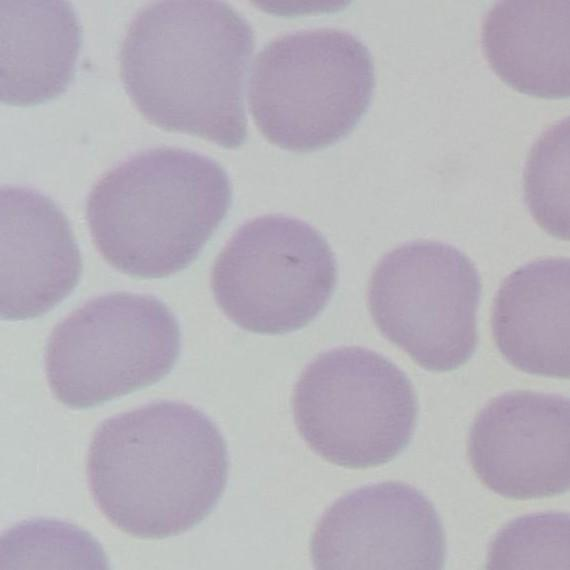Uninfected: (122, 0, 254, 147), (90, 398, 229, 535), (88, 150, 228, 281), (242, 29, 375, 149), (46, 294, 185, 407), (215, 214, 338, 334), (372, 240, 482, 372), (296, 348, 417, 468), (312, 485, 450, 570), (0, 185, 82, 319), (466, 395, 570, 497), (492, 264, 570, 382), (485, 0, 570, 108), (0, 0, 84, 107)
